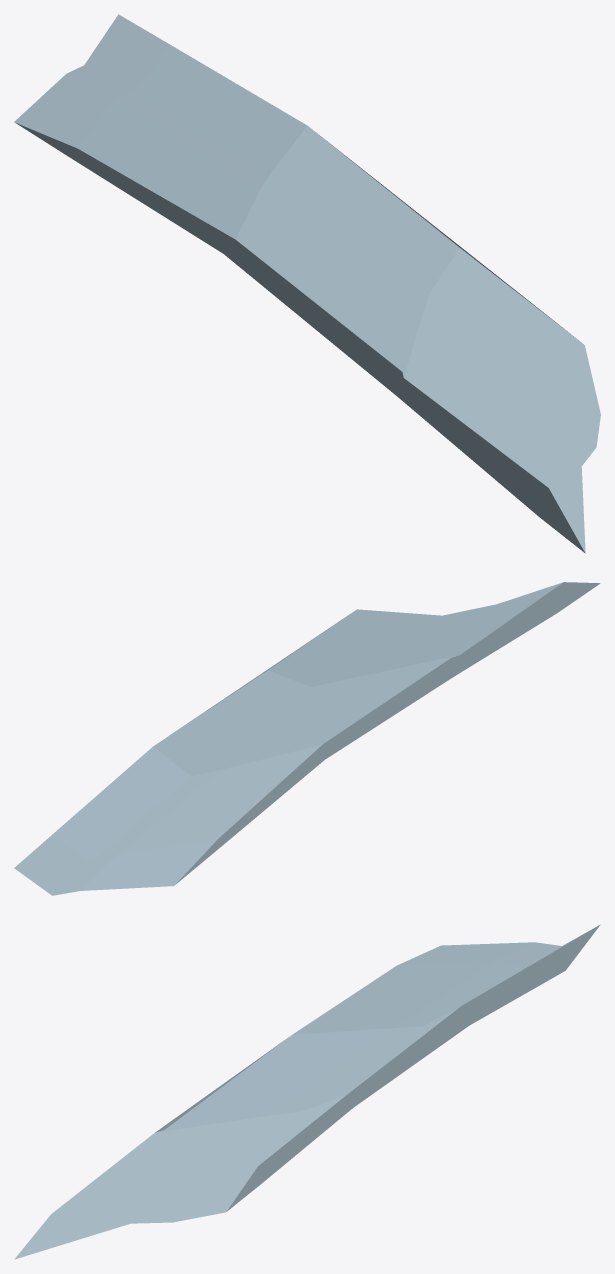
Rendered from su33d_stab_left.glb.
3 views of the same model, one above another, from view 1: azimuth 30°, elevation 25°; view 2: azimuth 150°, elevation 25°; view 3: azimuth 330°, elevation 25° (orthographic). The views are drawn at different scales.
Visible parts, largest first — view 1: 0_StabLeft; view 2: 0_StabLeft; view 3: 0_StabLeft.
Part boxes in pixels (x1,y1,x2,y2): 0_StabLeft: (14,14,600,553); 0_StabLeft: (14,582,600,895); 0_StabLeft: (14,924,600,1259).
Bounding box in the file's own units: 0.5974 × 0.2251 × 3.93.
